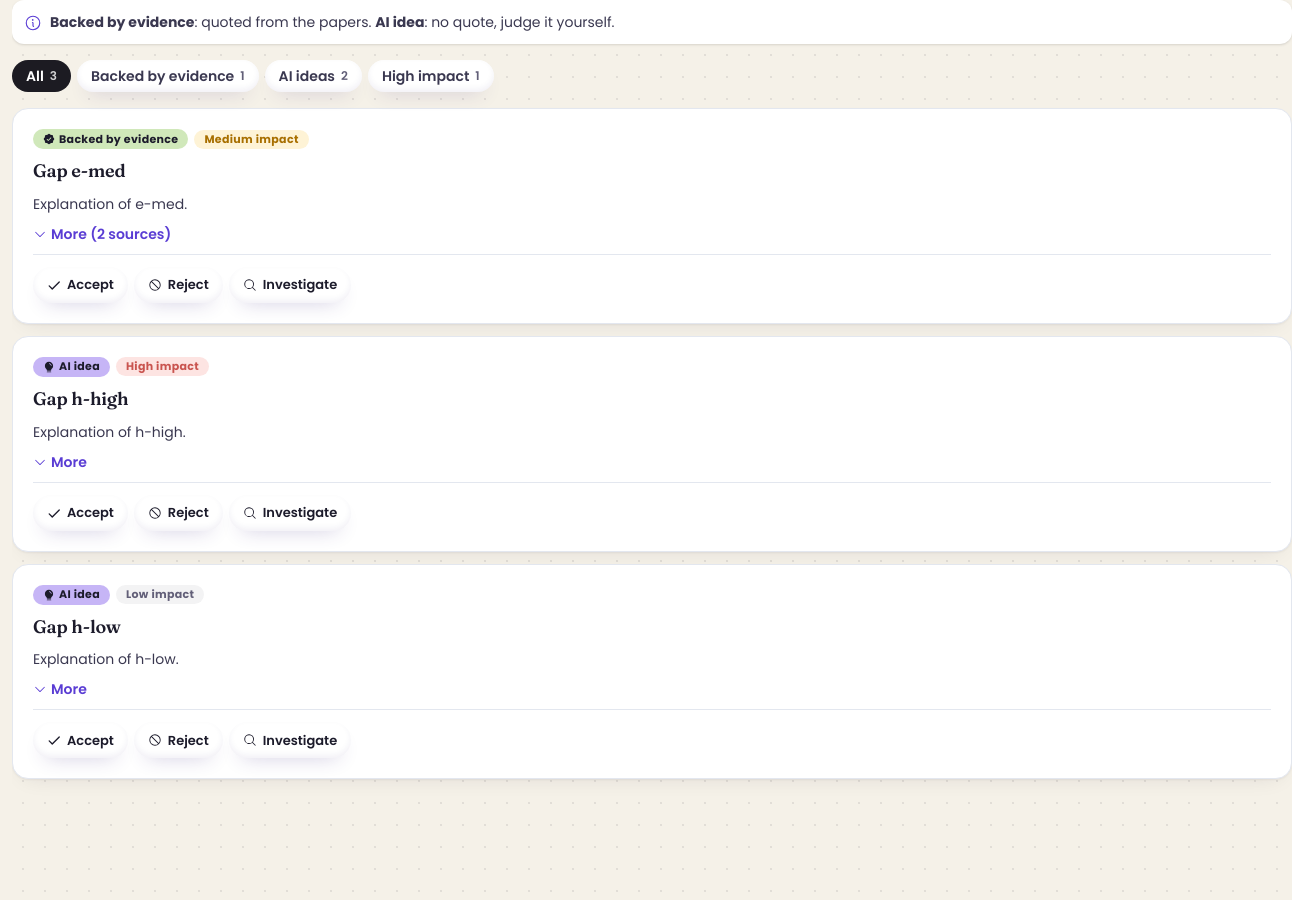
Test: GapsView › filter buttons show counts and change the list
Expected: the tab "AI ideas 2" is shown, 265,60 -> 362,92
Click the tab "High impact 1".
click(431, 76)  # box 368,60 -> 494,92
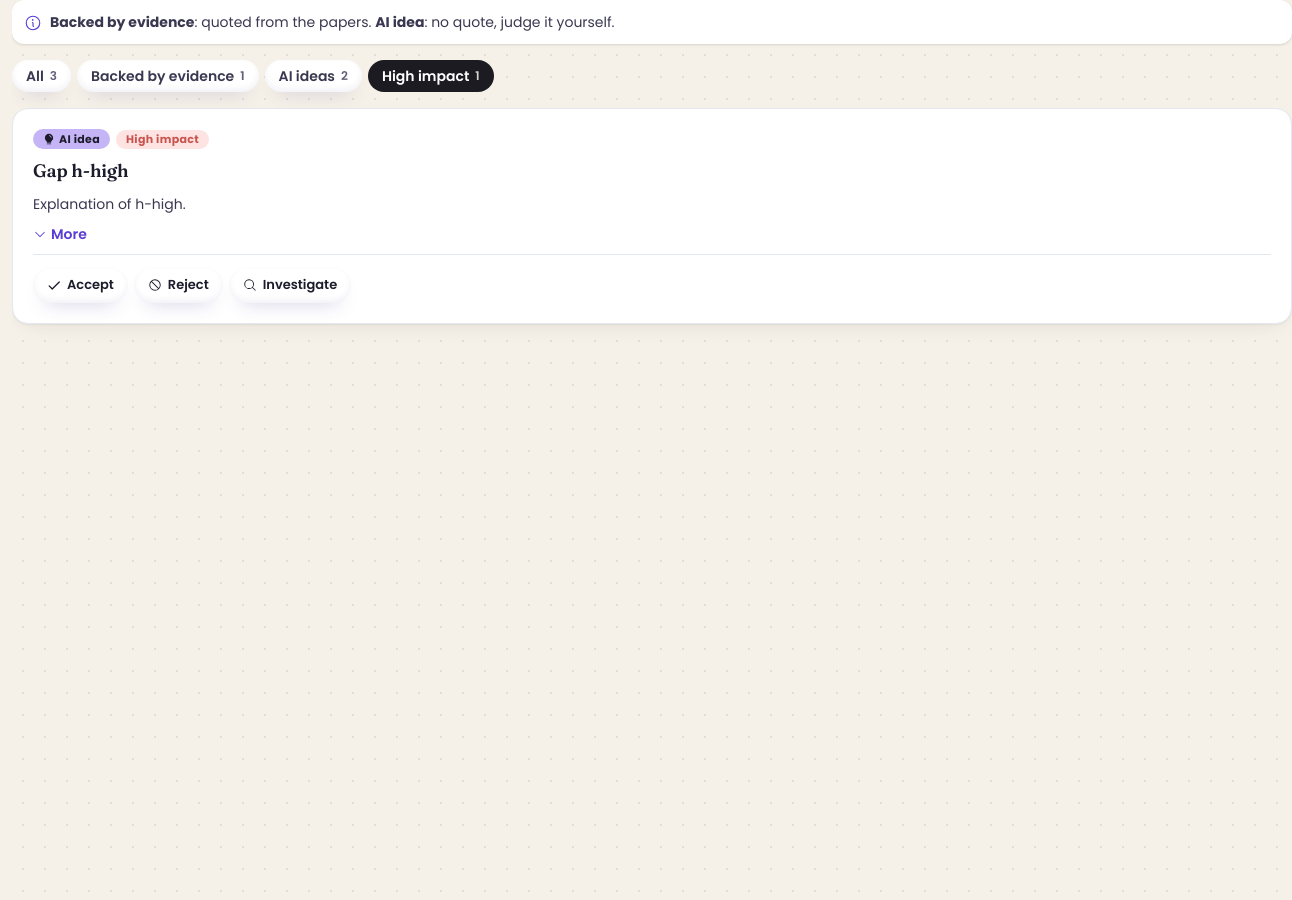
Expected: the heading "Gap h-high" is shown, 33,159 -> 128,182
Expected: the number of elements with test id "gap-card" is 1, 12,108 -> 1291,324
